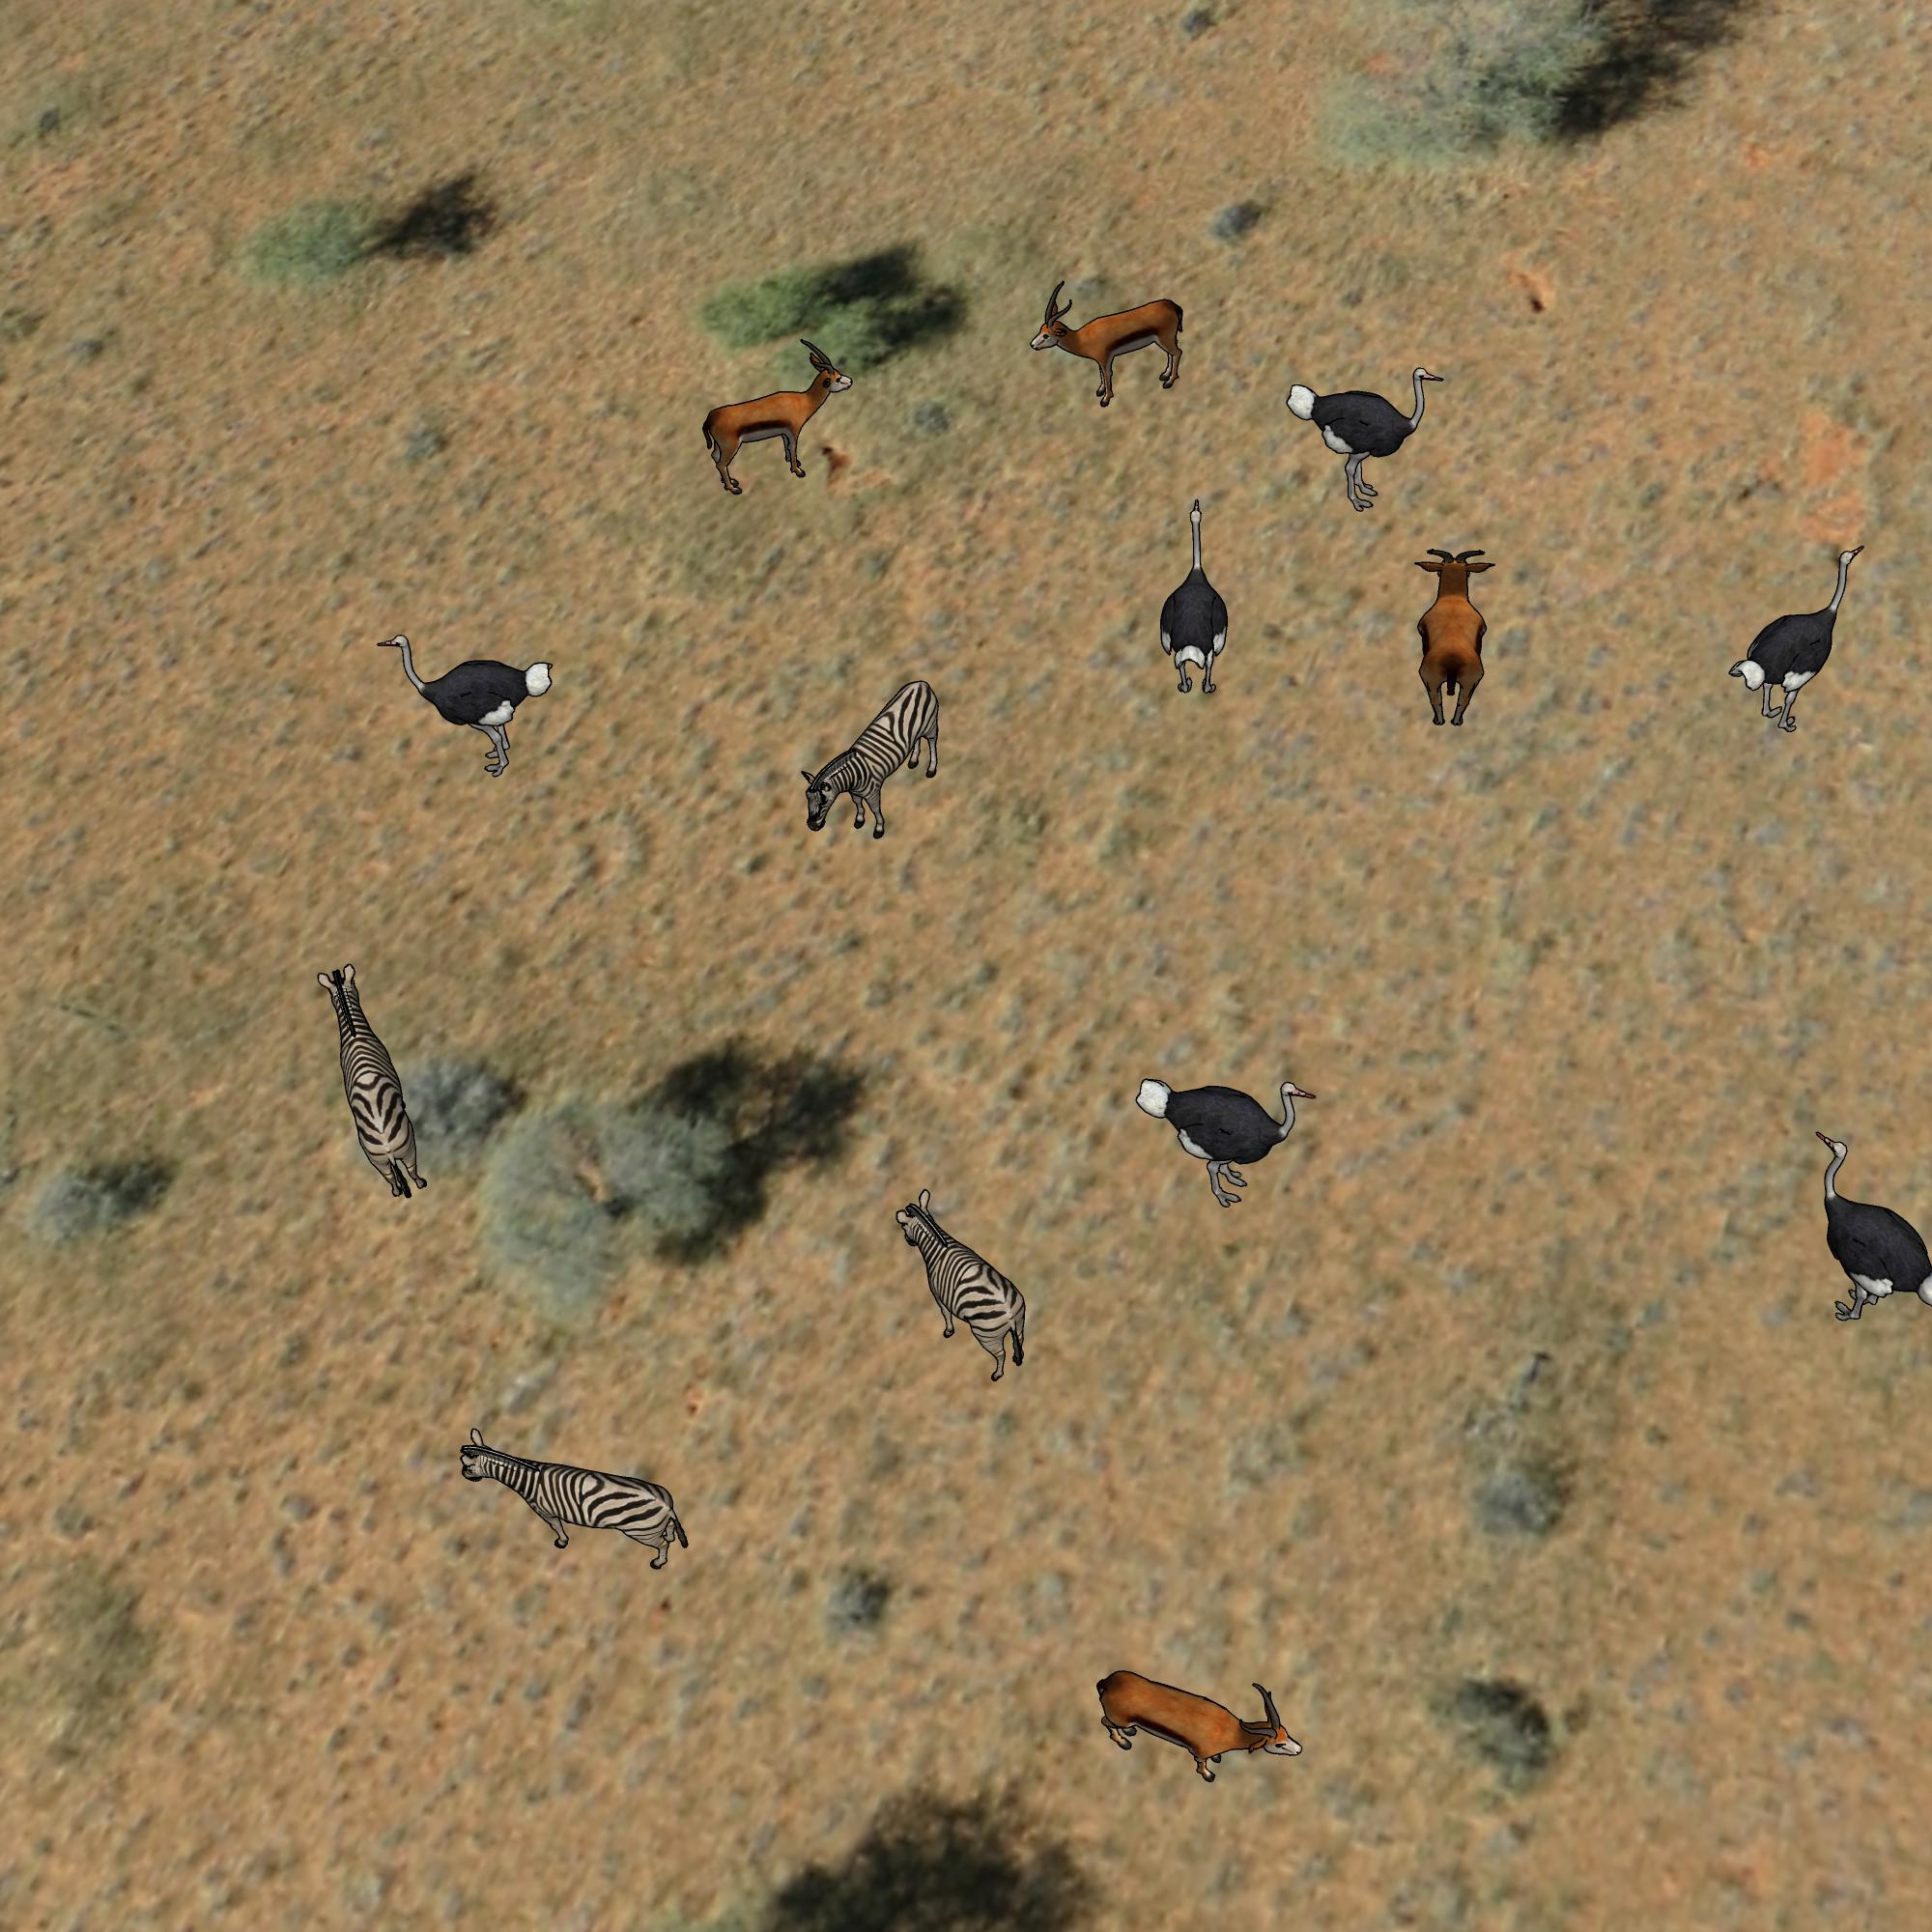ostrich: (367, 616, 554, 791), (1129, 1053, 1325, 1213), (1793, 1115, 1932, 1336), (1721, 529, 1866, 736), (1285, 355, 1439, 515), (1150, 495, 1229, 702)
springbok: (1089, 1659, 1307, 1791), (692, 342, 852, 495), (1028, 278, 1190, 408), (1409, 537, 1500, 733)
zebra: (461, 1417, 697, 1584), (311, 952, 436, 1206), (885, 1180, 1036, 1386), (796, 672, 952, 845)
